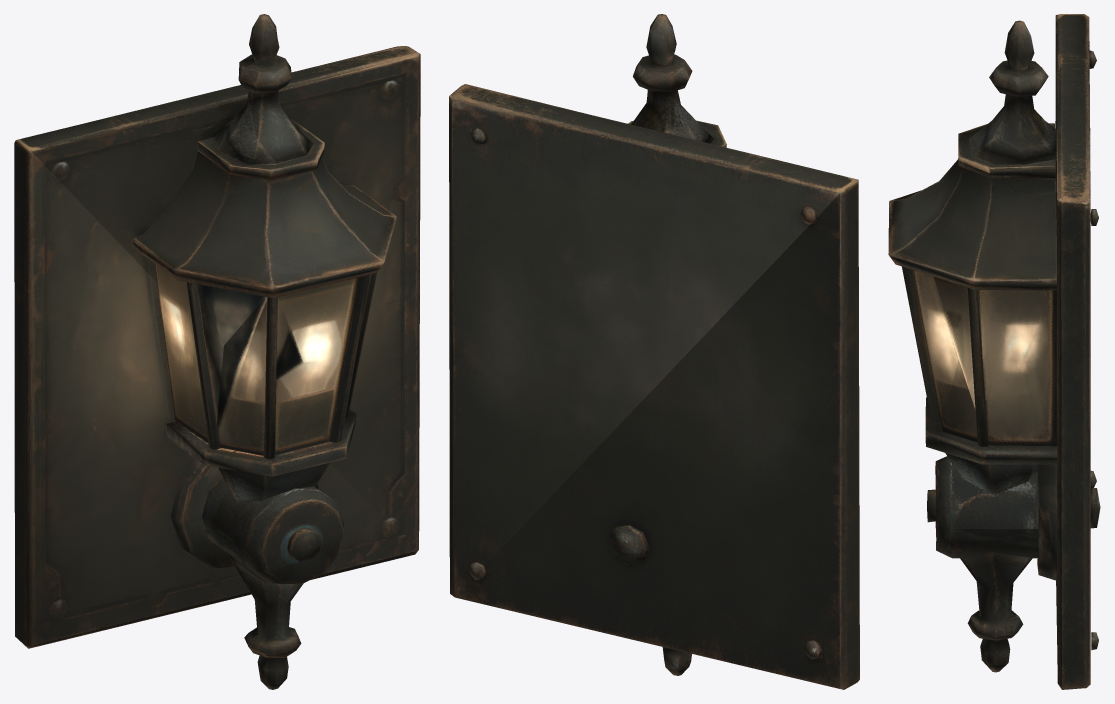
The model's file is wall_lamp.fbx.
The picture shows the model from 3 angles, left to right: view 1: azimuth 30°, elevation 25°; view 2: azimuth 150°, elevation 25°; view 3: azimuth 270°, elevation 25°; orthographic projection. The views are drawn at different scales.
Parts seen in each view (by area): view 1: wall_lamp; view 2: wall_lamp; view 3: wall_lamp.
Boxes of the visible parts, x1,y1,x2,y2 form: wall_lamp: (14, 14, 420, 689); wall_lamp: (449, 14, 859, 689); wall_lamp: (888, 14, 1100, 689).
Size of the model in its own units: 514 by 822 by 243.
1 material, 1 textured.
